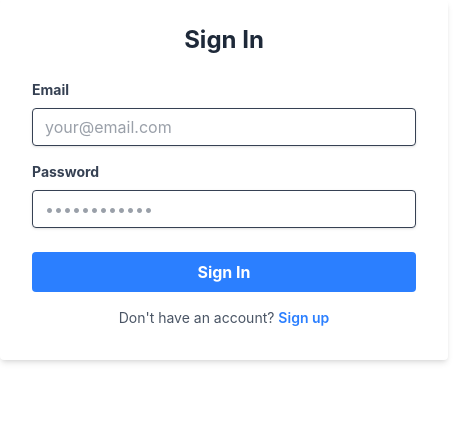
it: LoginForm › shows error when submitting empty form
Click the button "Sign In".
click(224, 272)  # box [32, 252, 416, 292]
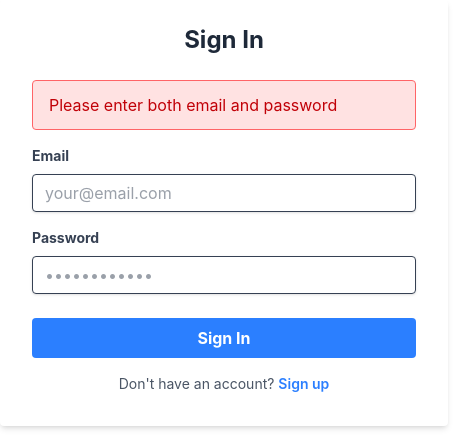
Expected: the text "Please enter both email and password" is shown, [32, 80, 416, 130]
